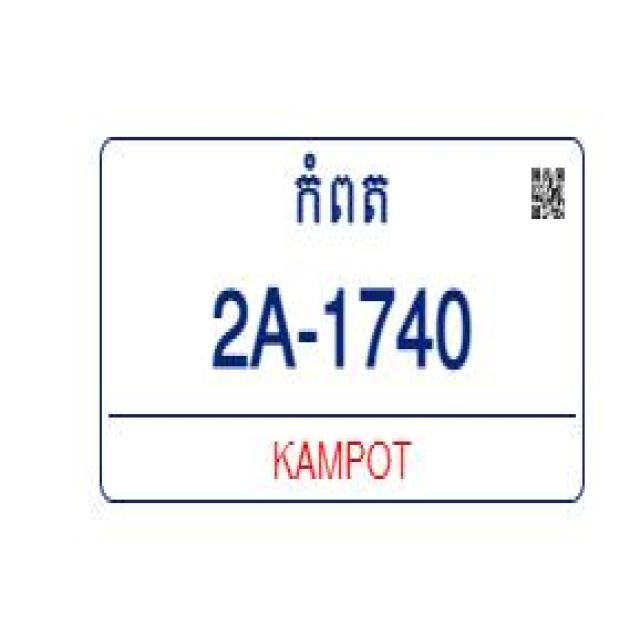Kampot: (288, 147, 398, 241)
